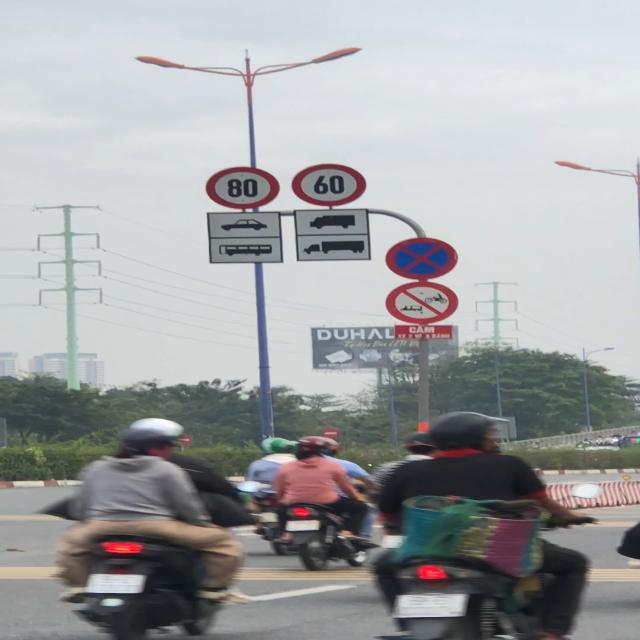Bien bao cam dung xe va do xe: (384, 237, 464, 282)
Bien bao toc do toi da cho phep: (289, 163, 370, 208), (204, 167, 280, 210)
